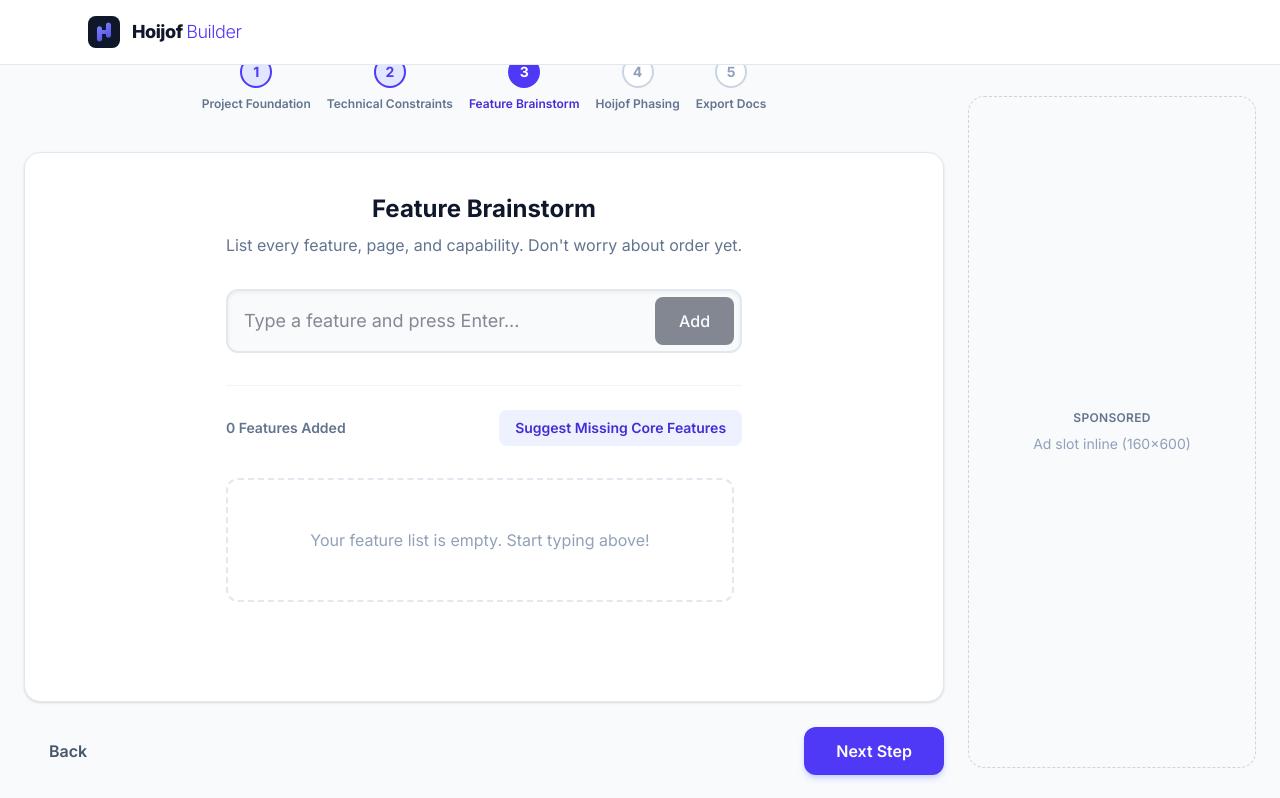
Test: Phase 2 persistence integration › hydrates state from localStorage on load
(page scrolled)
Expected: the heading "Feature Brainstorm" is shown, [372,194,596,223]
Click the button "Back": (68, 751) [24,726,112,776]
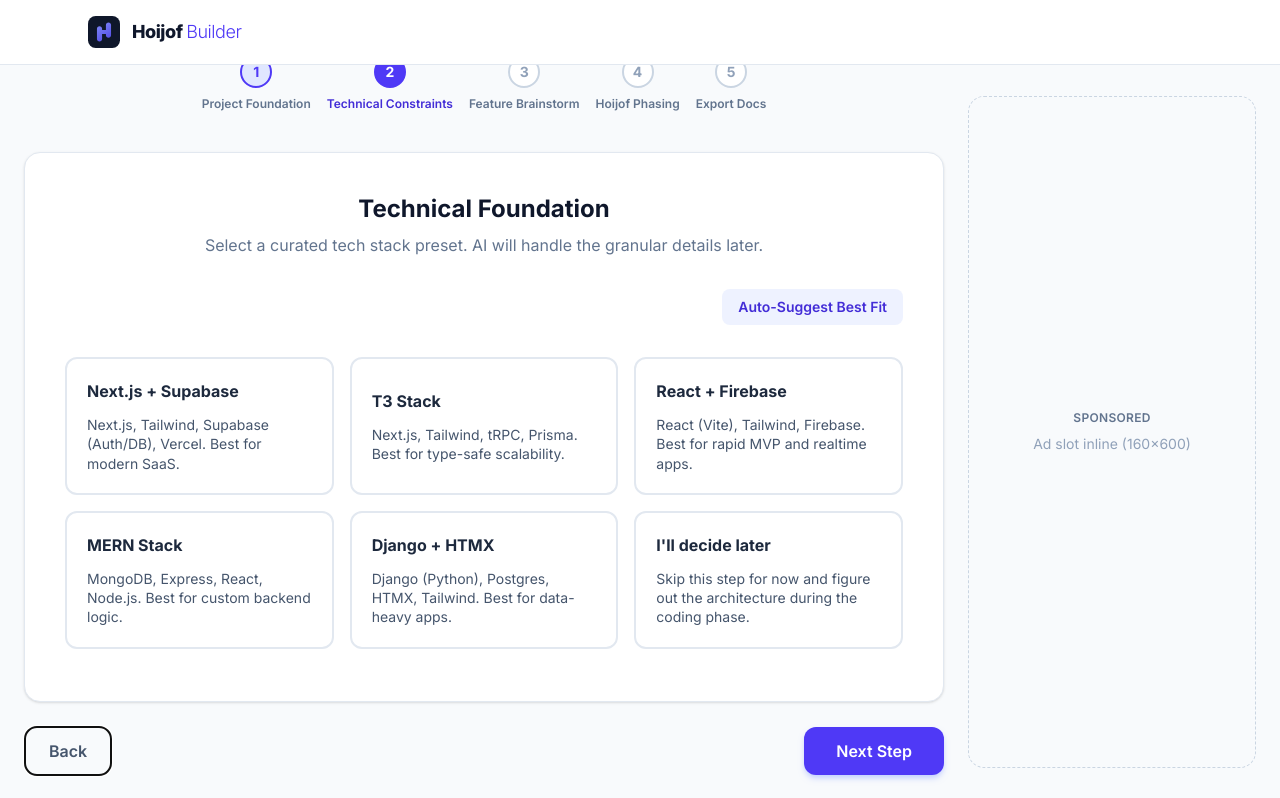
Click the button "Back": (68, 751) [24,726,112,776]
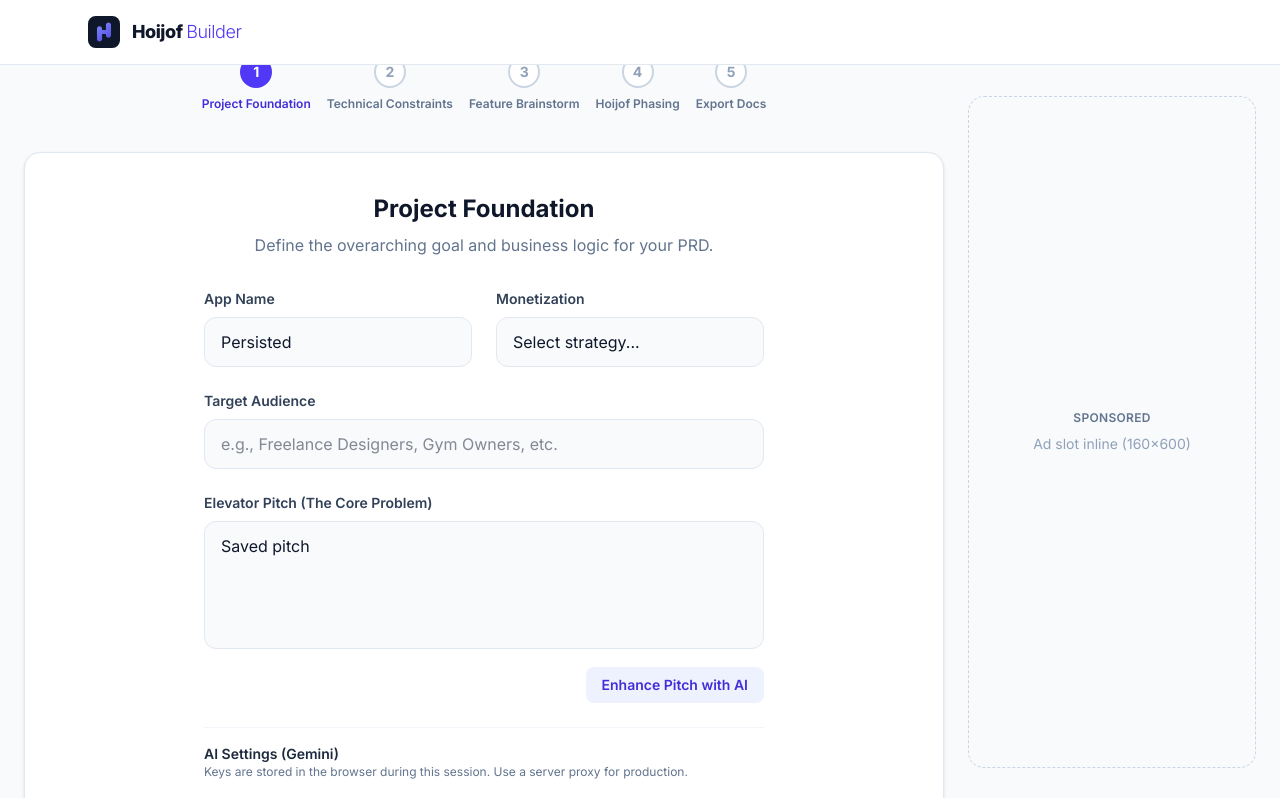
Result: the field labelled "App Name" holds "Persisted" at [204,317,472,367]
